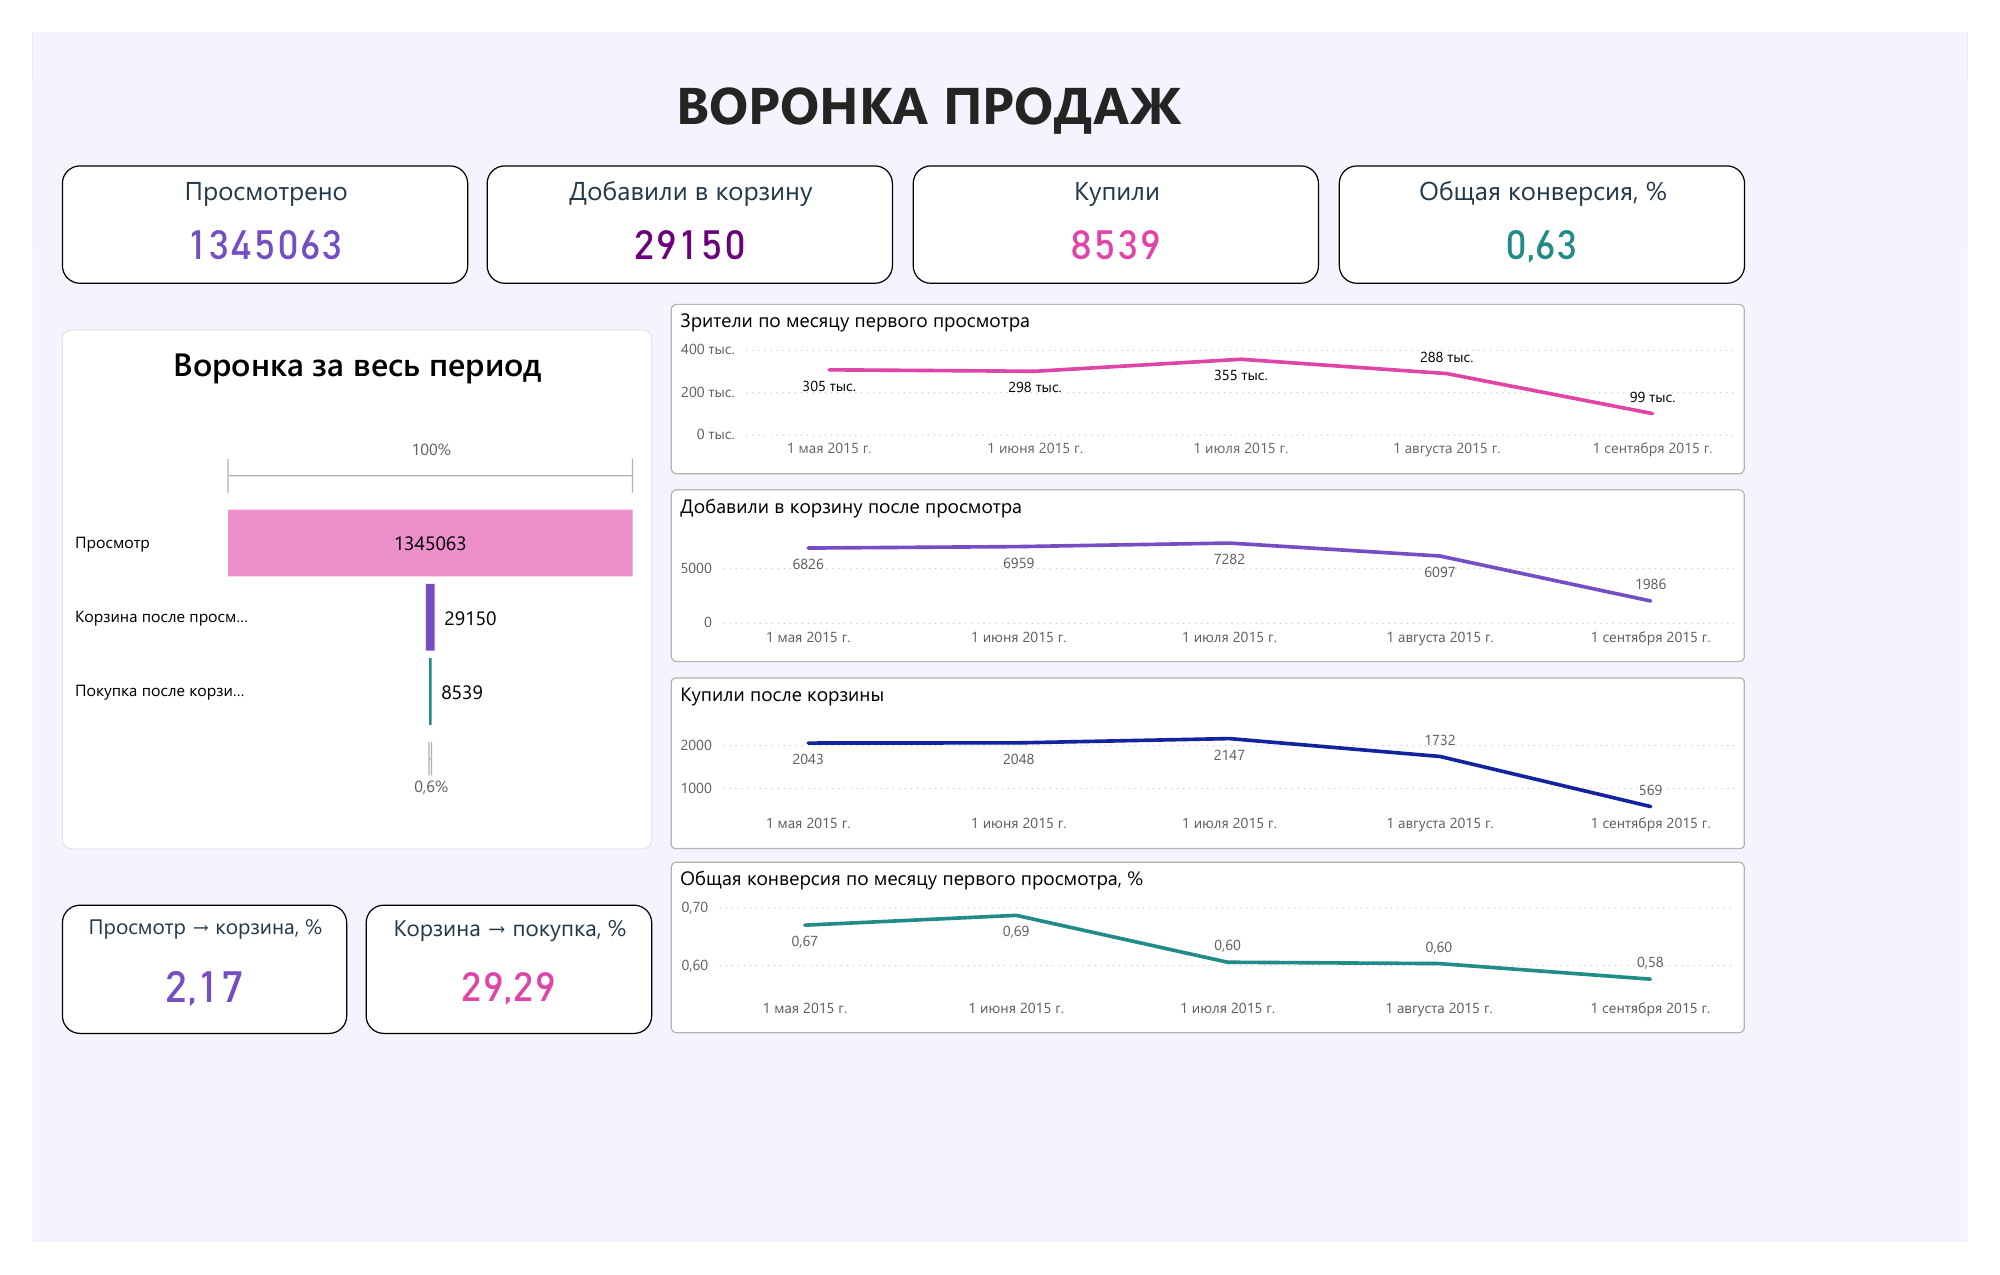

The dashboard page shown, as its layout file describes it:
{"tool":"powerbi","page":{"name":"01 • Обзор","canvas":[1440,900],"ordinal":0},"visuals":[{"type":"card","title":"Просмотрено","fields":{"Values":["Sum(monthly_funnel.users_with_view)"]},"box":[24,110,336,98],"z":300},{"type":"card","title":"Добавили в корзину","fields":{"Values":["Sum(monthly_funnel.users_with_cart)"]},"box":[376,110,336,98],"z":400},{"type":"card","title":"Купили","fields":{"Values":["Sum(monthly_funnel.users_with_purchase)"]},"box":[728,110,336,98],"z":500},{"type":"card","title":"Общая конверсия, %","fields":{"Values":["ViewToPurchasePct"]},"box":[1080,110,336,98],"z":600},{"type":"funnel","title":"Воронка за весь период","fields":{"Category":["funnel.stage"],"Y":["Sum(funnel.users)"]},"box":[24.4,245.6,487.8,430],"z":700},{"type":"lineChart","title":"Зрители по месяцу первого просмотра","fields":{"Category":["monthly_funnel.cohort_month"],"Y":["Sum(monthly_funnel.users_with_view)"]},"box":[527.8,224.4,887.8,141.1],"z":800},{"type":"lineChart","title":"Добавили в корзину после просмотра","fields":{"Category":["monthly_funnel.cohort_month"],"Y":["Sum(monthly_funnel.users_with_cart)"]},"box":[527.8,377.8,887.8,143.3],"z":900},{"type":"lineChart","title":"Купили после корзины","fields":{"Category":["monthly_funnel.cohort_month"],"Y":["Sum(monthly_funnel.users_with_purchase)"]},"box":[527.8,533.3,887.8,142.2],"z":1000},{"type":"card","title":"Просмотр → корзина, %","fields":{"Values":["ViewToCartPct"]},"box":[24.4,721.1,235.6,106.7],"z":1100},{"type":"card","title":"Корзина → покупка, %","fields":{"Values":["CartToPurchasePct"]},"box":[275.6,721.1,236.7,106.7],"z":1200},{"type":"lineChart","title":"Общая конверсия по месяцу первого просмотра, %","fields":{"Category":["monthly_funnel.cohort_month"],"Y":["ViewToPurchasePct"]},"box":[527.8,685.6,887.8,142.2],"z":1300},{"type":"textbox","box":[527.6,25.5,458.9,72],"z":1301}]}

Visuals, with their boxes in screenshot pixels (x1, y1, x2, y2), scaled from the page's 1440x900 canvas onto the 2000x1275 screenshot:
"Просмотрено" card: {"left": 33, "top": 156, "right": 500, "bottom": 295}
"Добавили в корзину" card: {"left": 522, "top": 156, "right": 989, "bottom": 295}
"Купили" card: {"left": 1011, "top": 156, "right": 1478, "bottom": 295}
"Общая конверсия, %" card: {"left": 1500, "top": 156, "right": 1967, "bottom": 295}
"Воронка за весь период" funnel: {"left": 34, "top": 348, "right": 711, "bottom": 957}
"Зрители по месяцу первого просмотра" lineChart: {"left": 733, "top": 318, "right": 1966, "bottom": 518}
"Добавили в корзину после просмотра" lineChart: {"left": 733, "top": 535, "right": 1966, "bottom": 738}
"Купили после корзины" lineChart: {"left": 733, "top": 756, "right": 1966, "bottom": 957}
"Просмотр → корзина, %" card: {"left": 34, "top": 1022, "right": 361, "bottom": 1173}
"Корзина → покупка, %" card: {"left": 383, "top": 1022, "right": 712, "bottom": 1173}
"Общая конверсия по месяцу первого просмотра, %" lineChart: {"left": 733, "top": 971, "right": 1966, "bottom": 1173}
textbox: {"left": 733, "top": 36, "right": 1370, "bottom": 138}
